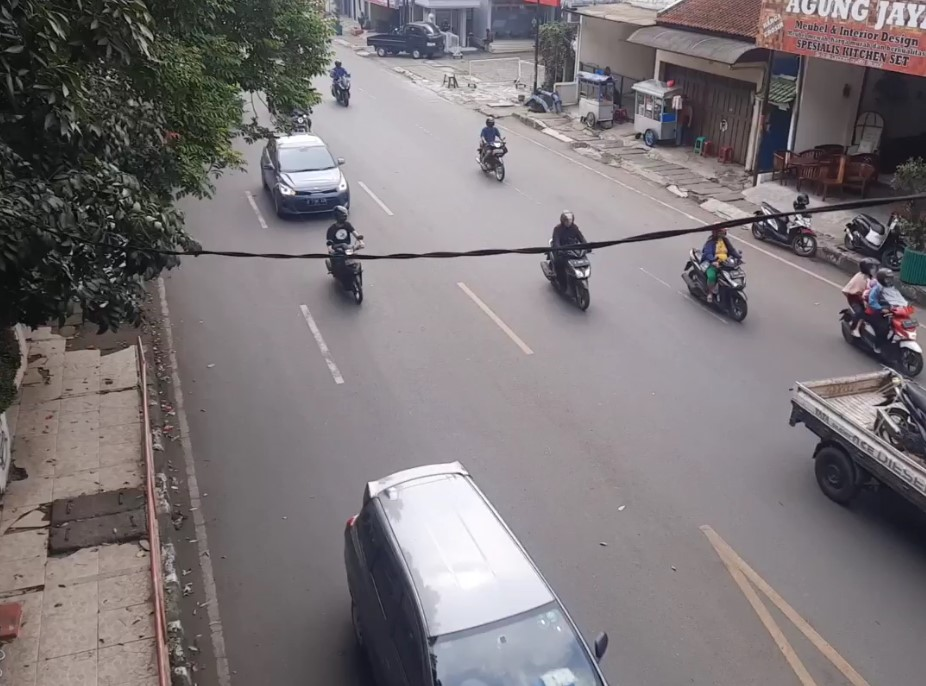mobil: (268, 146, 352, 219)
motor: (838, 267, 926, 372), (682, 219, 754, 327), (541, 209, 599, 307), (325, 208, 367, 308), (470, 118, 515, 186), (322, 59, 357, 109)
